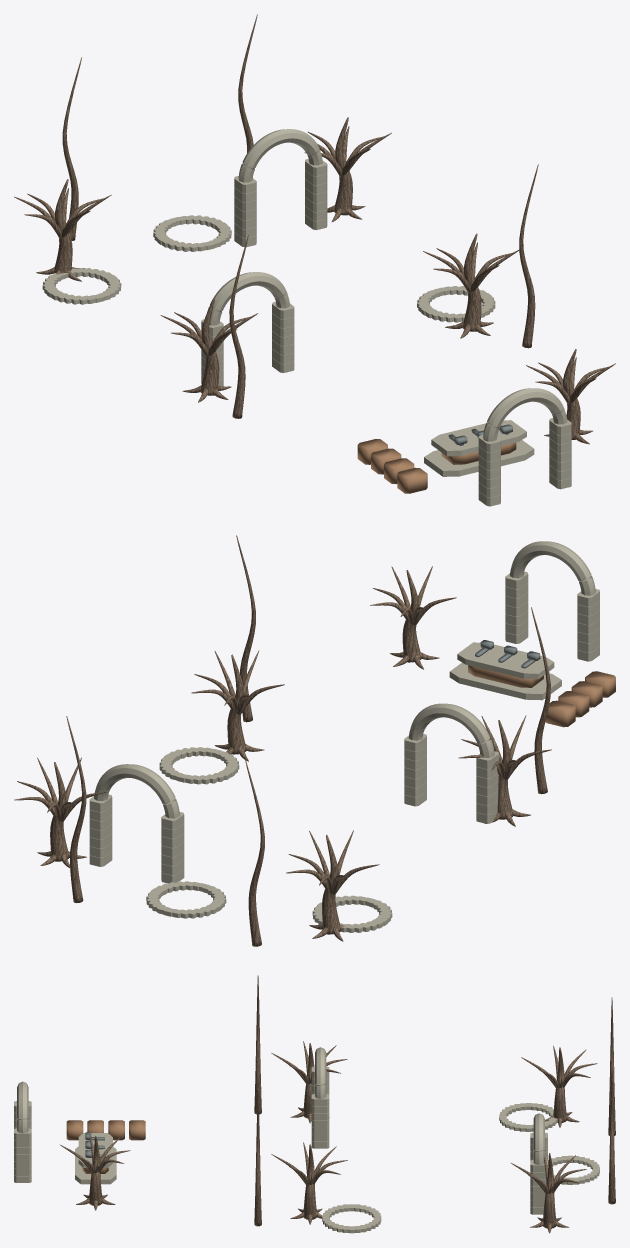
Rendered from R4_Structure.fbx.
3 views of the same model, one above another, from view 1: azimuth 30°, elevation 25°; view 2: azimuth 150°, elevation 25°; view 3: azimuth 270°, elevation 25° (orthographic). The views are drawn at different scales.
Parts seen in each view (by area): view 1: R4_Structure; view 2: R4_Structure; view 3: R4_Structure.
Part boxes in pixels (x1,y1,x2,y2): R4_Structure: (14, 14, 615, 506); R4_Structure: (14, 535, 615, 946); R4_Structure: (14, 975, 615, 1233).
Bounding box in the file's own units: 32.45 × 15.18 × 57.82.
4 materials, 1 textured.
